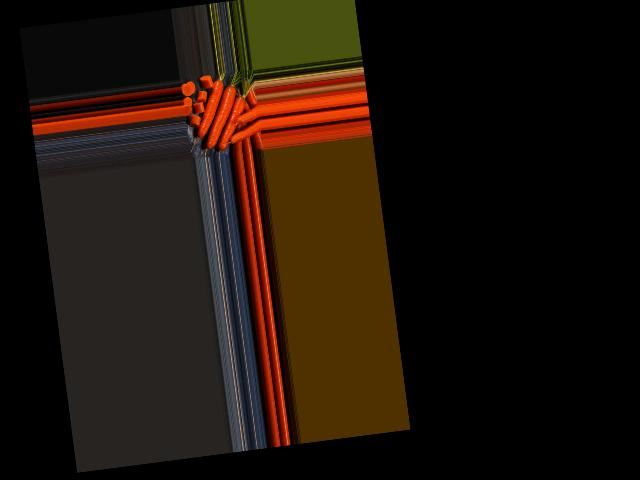carrot: (212, 95, 253, 152)
